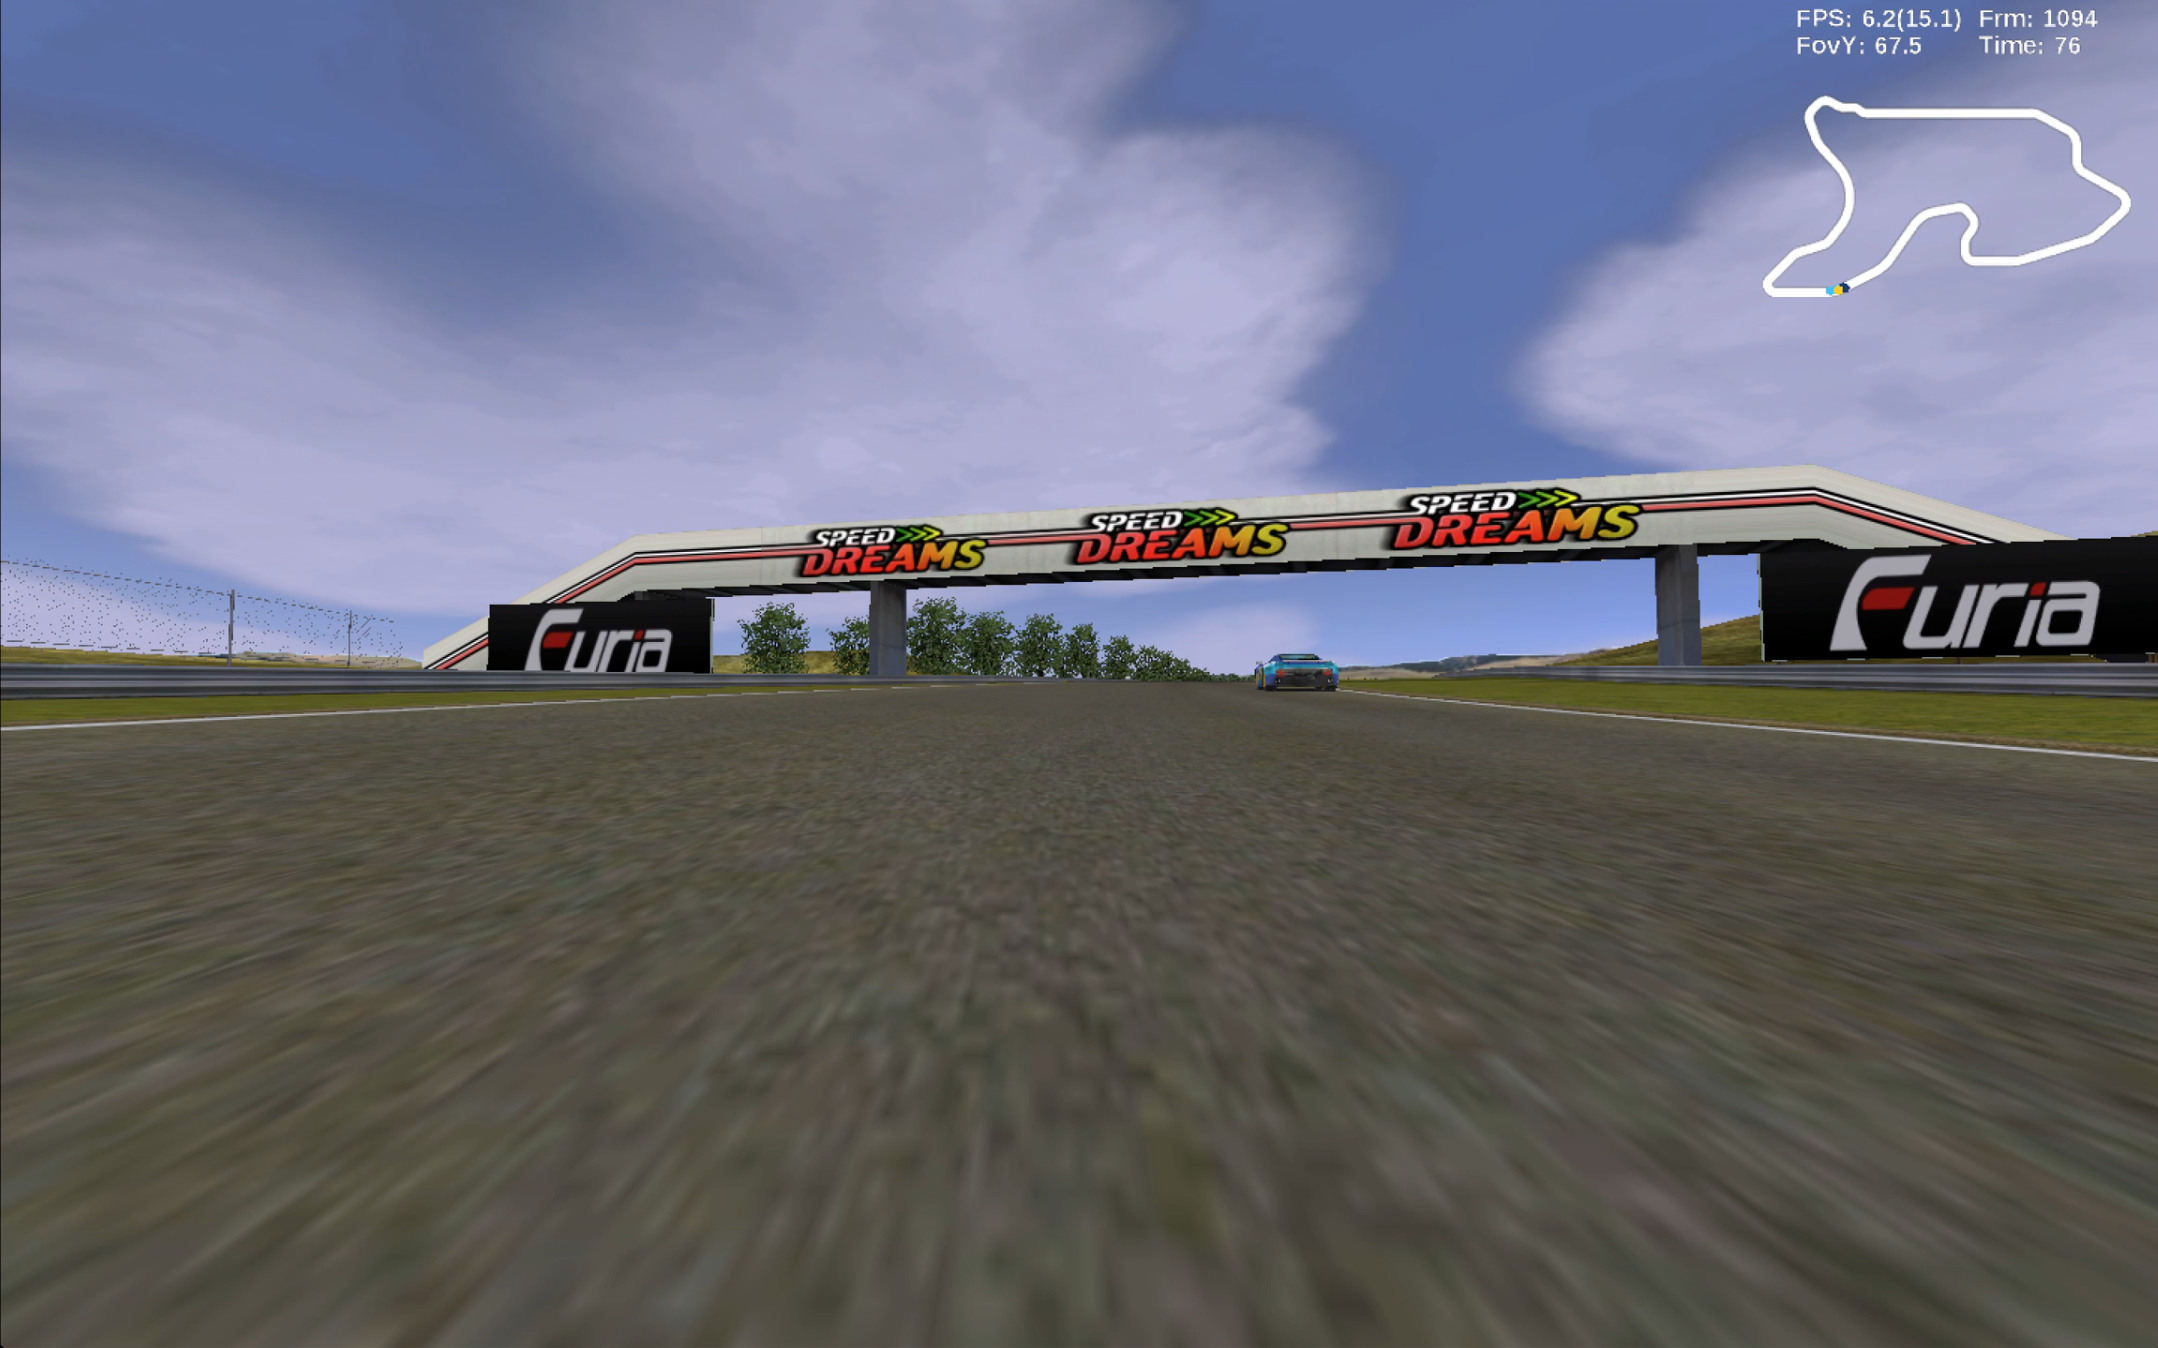Lynx220: (1256, 652, 1344, 694)
